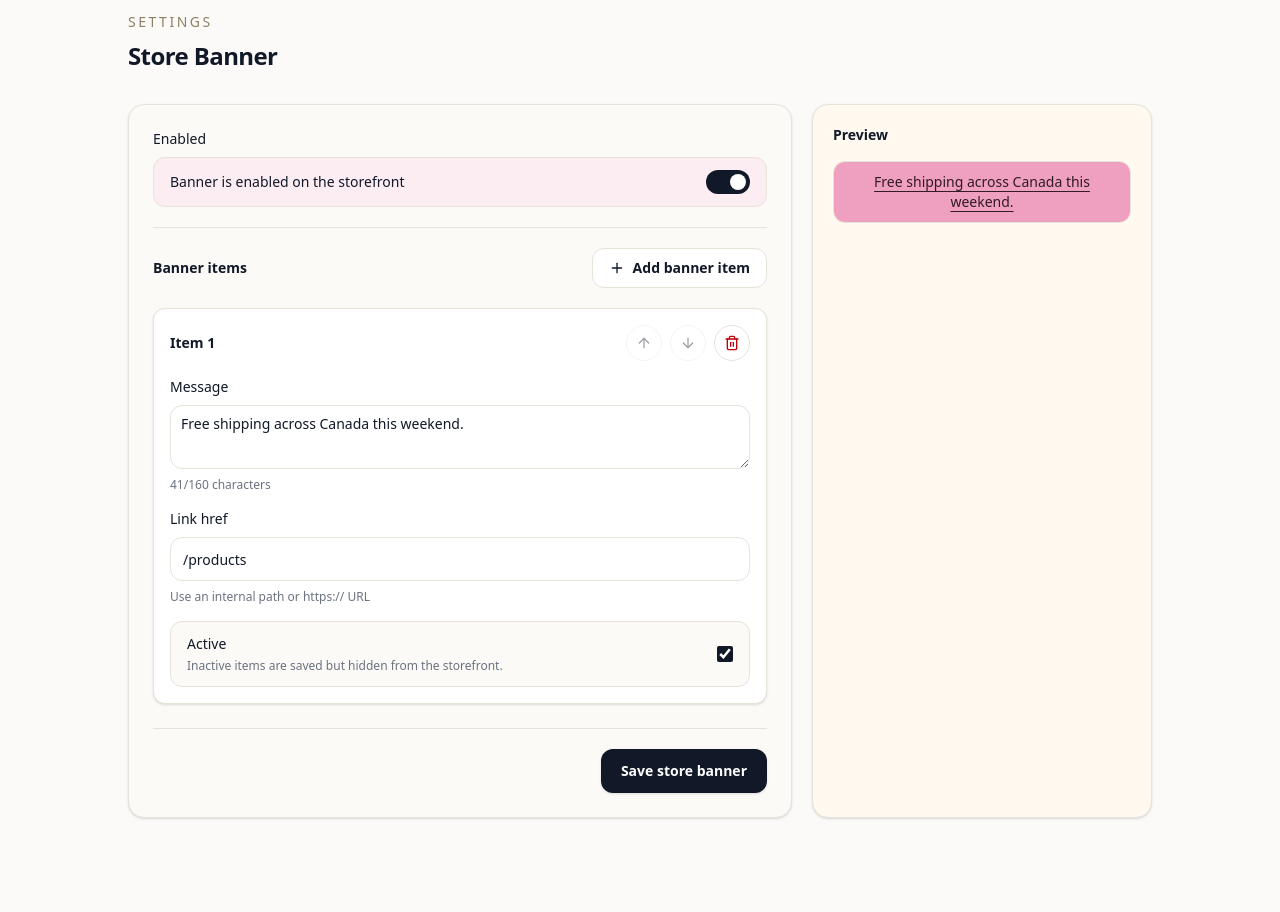
AdminStoreBannerSettingsPage › removes a banner item
Expected: the text box showing "Free shipping across Canada this weekend." is shown, [170, 405, 750, 469]
Click the button named "Remove item 1": [732, 343] box [714, 325, 750, 361]
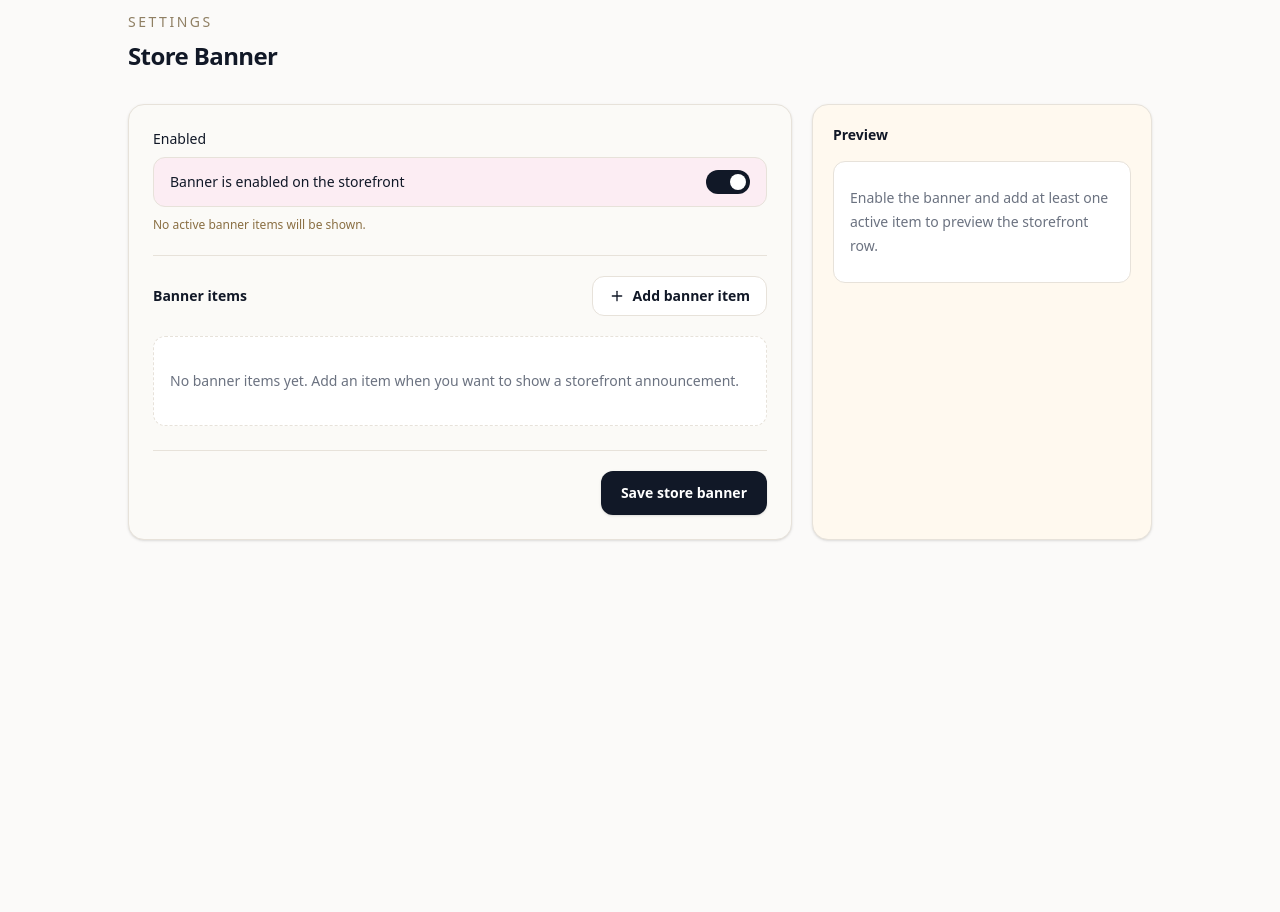
Result: the link showing "Free shipping across Canada this weekend." is gone
Result: the text "No banner items yet" is shown at [170, 371, 739, 390]
